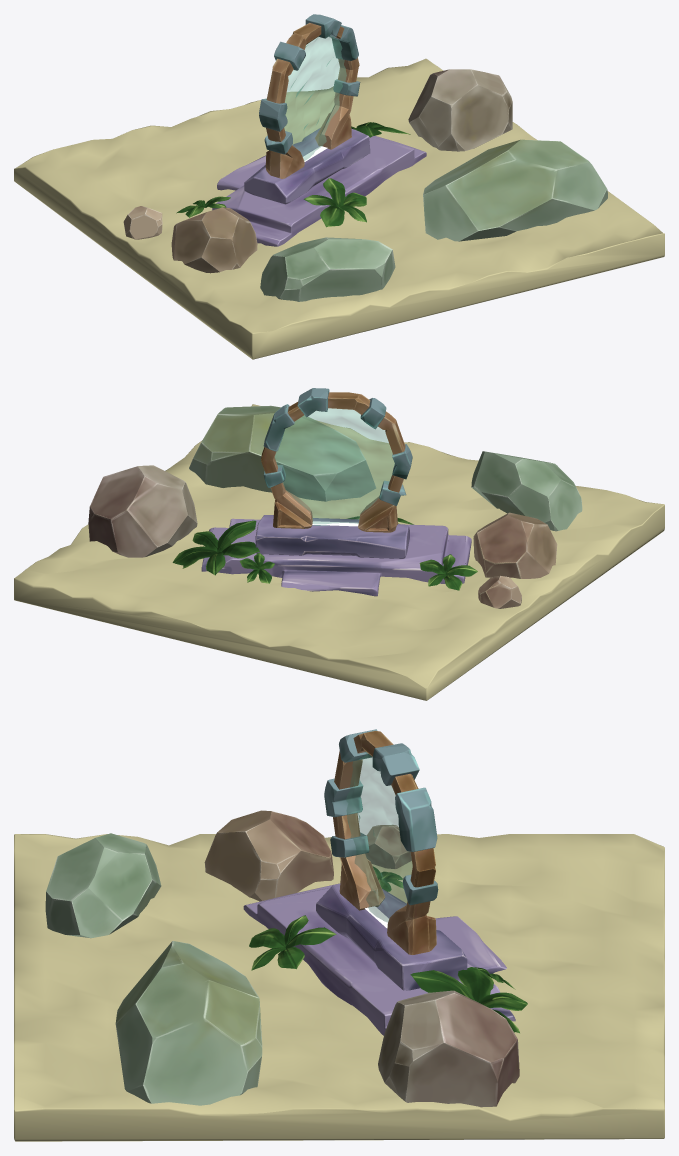
The model's file is Portal.fbx.
The picture shows the model from 3 angles, top to bottom: view 1: azimuth 30°, elevation 25°; view 2: azimuth 150°, elevation 25°; view 3: azimuth 270°, elevation 25°; orthographic projection. The views are drawn at different scales.
Visible parts, largest first — view 1: Plane.001_0, Icosphere.002_12, zakladna portal_5, Icosphere.003_11, kamen_10, tekutina portal_8, Circle_2, Icosphere.004_14, Plane_4, Circle.001_3, Icosphere.001_13; view 2: Plane.001_0, Icosphere.002_12, tekutina portal_8, zakladna portal_5, kamen_10, Icosphere.003_11, Plane_4, Circle_2, Icosphere.004_14, Circle.001_3, Icosphere.001_13, Plane.002_15 (+2 smaller); view 3: Plane.001_0, Icosphere.002_12, kamen_10, zakladna portal_5, Icosphere.003_11, Icosphere.004_14, Circle_2, tekutina portal_8, Circle.001_3, Plane_4, Icosphere.001_13, Plane.002_15 (+2 smaller).
Part boxes in pixels (x1,y1,x2,y2): Plane.001_0: (14,58,664,359); Icosphere.002_12: (423,139,607,241); zakladna portal_5: (212,136,426,246); Icosphere.003_11: (260,237,395,301); kamen_10: (408,69,512,151); tekutina portal_8: (284,36,346,160); Circle_2: (265,23,359,178); Icosphere.004_14: (171,207,257,273); Plane_4: (244,128,370,204); Circle.001_3: (259,14,360,154); Icosphere.001_13: (123,206,162,239); Plane.001_0: (14,404,664,700); Icosphere.002_12: (189,405,375,501); tekutina portal_8: (274,408,394,525); zakladna portal_5: (201,518,471,596); kamen_10: (88,465,197,557); Icosphere.003_11: (471,451,582,531); Plane_4: (255,515,409,558); Circle_2: (261,392,405,532); Icosphere.004_14: (473,512,557,578); Circle.001_3: (263,388,412,505); Icosphere.001_13: (478,575,521,608); Plane.002_15: (217,520,256,552); Plane.001_0: (14,834,664,1141); Icosphere.002_12: (115,941,262,1105); kamen_10: (378,990,519,1107); zakladna portal_5: (243,883,515,1035); Icosphere.003_11: (45,833,161,938); Icosphere.004_14: (204,810,333,901); Circle_2: (333,730,436,954); tekutina portal_8: (346,751,412,922); Circle.001_3: (324,729,438,905); Plane_4: (316,884,467,990); Icosphere.001_13: (365,824,411,868); Plane.002_15: (410,970,475,1000).
Bounding box in the file's own units: 771 × 338 × 771.
9 materials, 6 textured.
